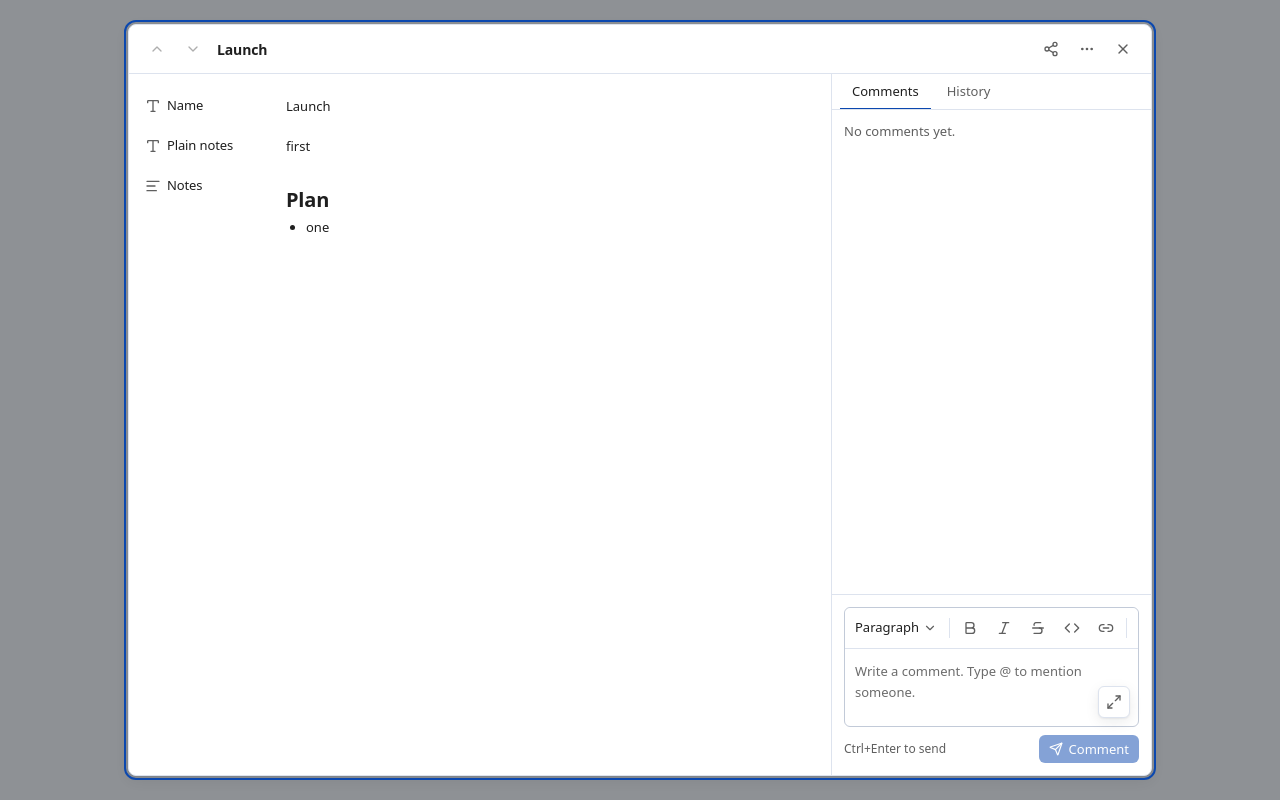
Test: ExpandedRecord: save status › says Saving… while a save is in flight and Saved once it lands
This screenshot has width=1280, height=800.
Click the button with aria-label "Edit Name": (308, 106) x1=286 y1=97 x2=330 y2=115
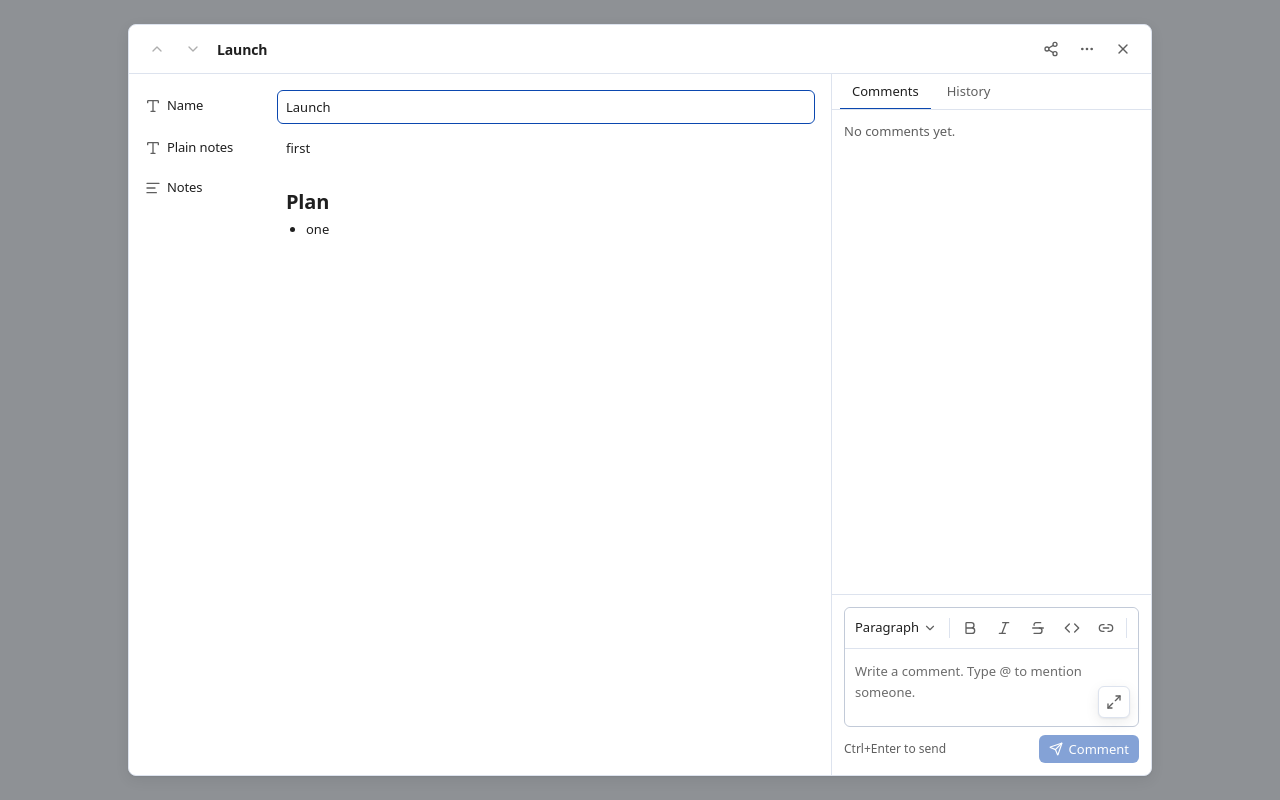
Replace the text in the field labelled "Name" with "Ship it": (546, 107) x1=278 y1=91 x2=814 y2=123
Then press Enter
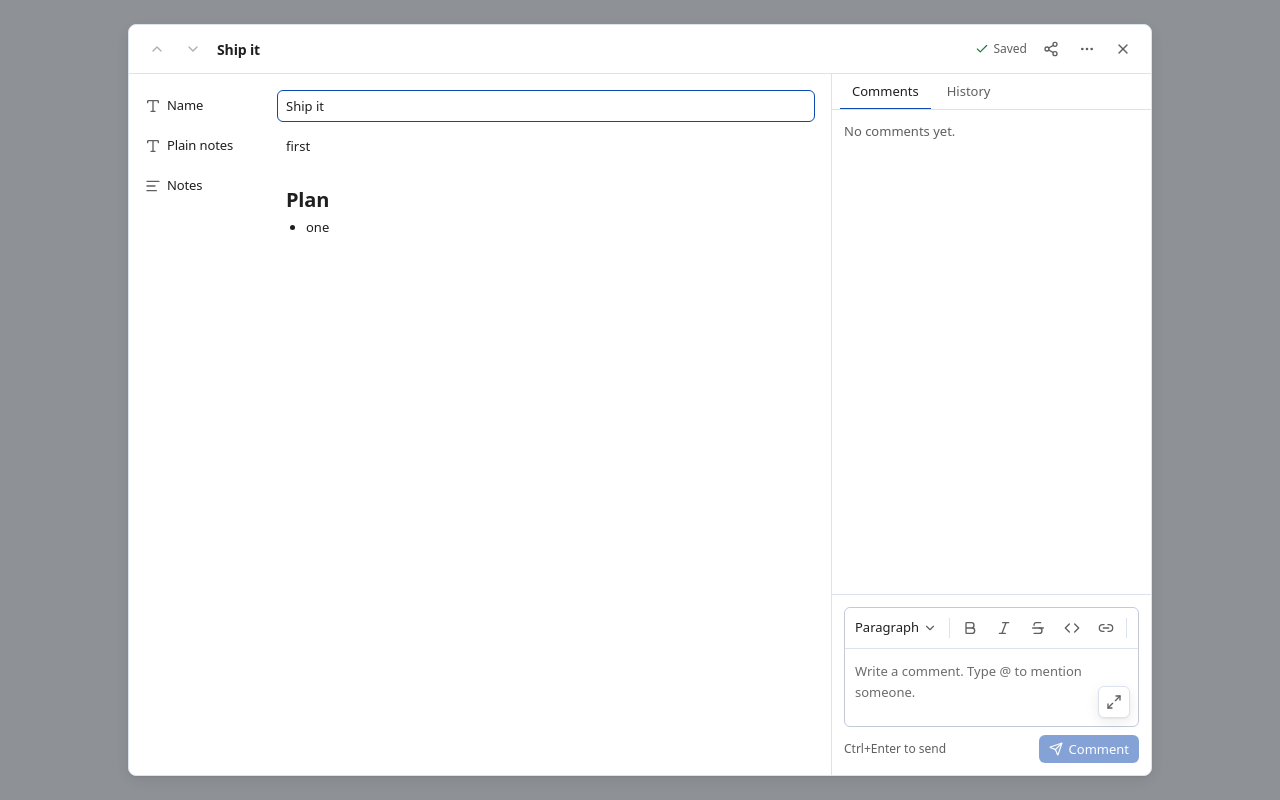
expect the text "Saving…" is shown: met, box x1=971 y1=41 x2=1031 y2=57
expect the text "Saved" is shown: met, box x1=975 y1=41 x2=1027 y2=57
